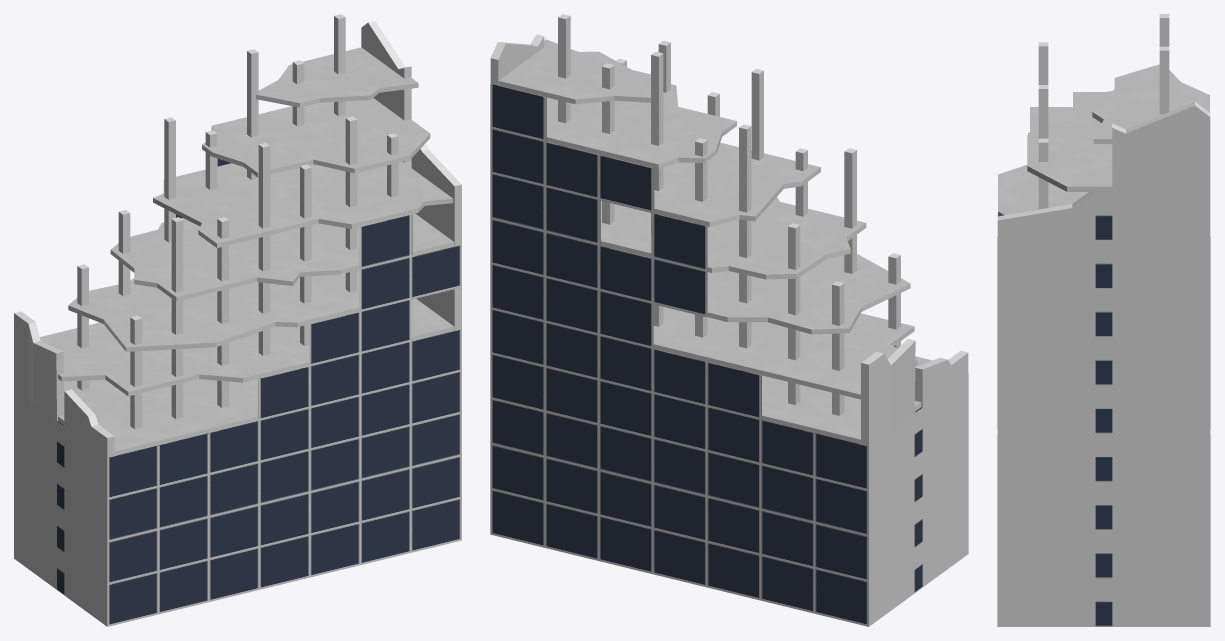
File: Building_DT_M_W5_W2_001.fbx
3 renders of one model, left to right at view 1: azimuth 30°, elevation 25°; view 2: azimuth 150°, elevation 25°; view 3: azimuth 270°, elevation 25°, orthographic. The views are drawn at different scales.
Visible parts, largest first — view 1: Building_DT_M_W5_W2_001; view 2: Building_DT_M_W5_W2_001; view 3: Building_DT_M_W5_W2_001.
Boxes of the visible parts, bbox=[...] form: Building_DT_M_W5_W2_001: bbox=[14, 14, 461, 626]; Building_DT_M_W5_W2_001: bbox=[490, 14, 968, 626]; Building_DT_M_W5_W2_001: bbox=[997, 14, 1210, 626].
Size of the model in its own units: 38.77 by 50.31 by 17.65.
